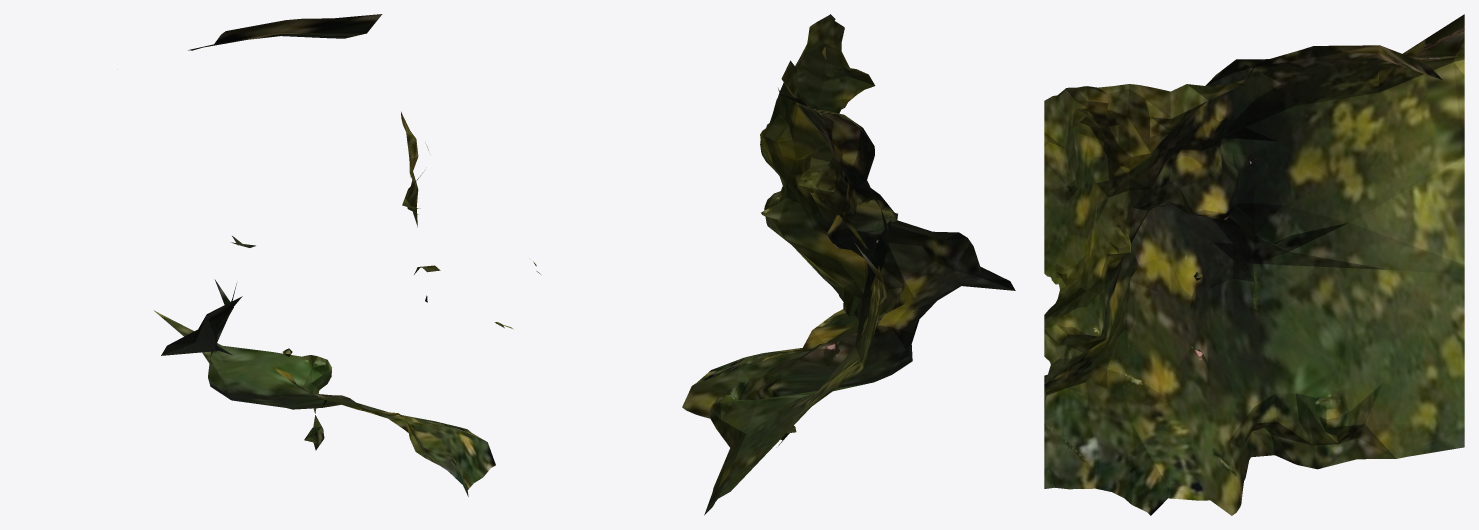
The picture shows the model from 3 angles, left to right: view 1: azimuth 30°, elevation 25°; view 2: azimuth 150°, elevation 25°; view 3: azimuth 270°, elevation 25°; orthographic projection. The views are drawn at different scales.
Bounding box in the file's own units: 1.57 × 1.67 × 1.67.
5 materials, 5 textured.
